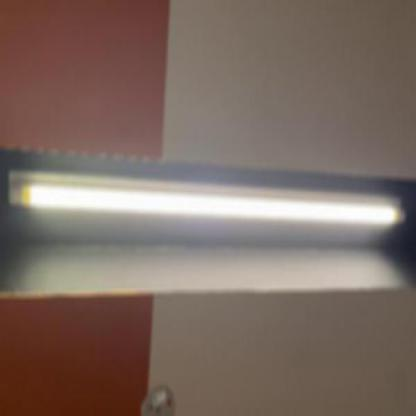light_on: (0, 159, 413, 243)
